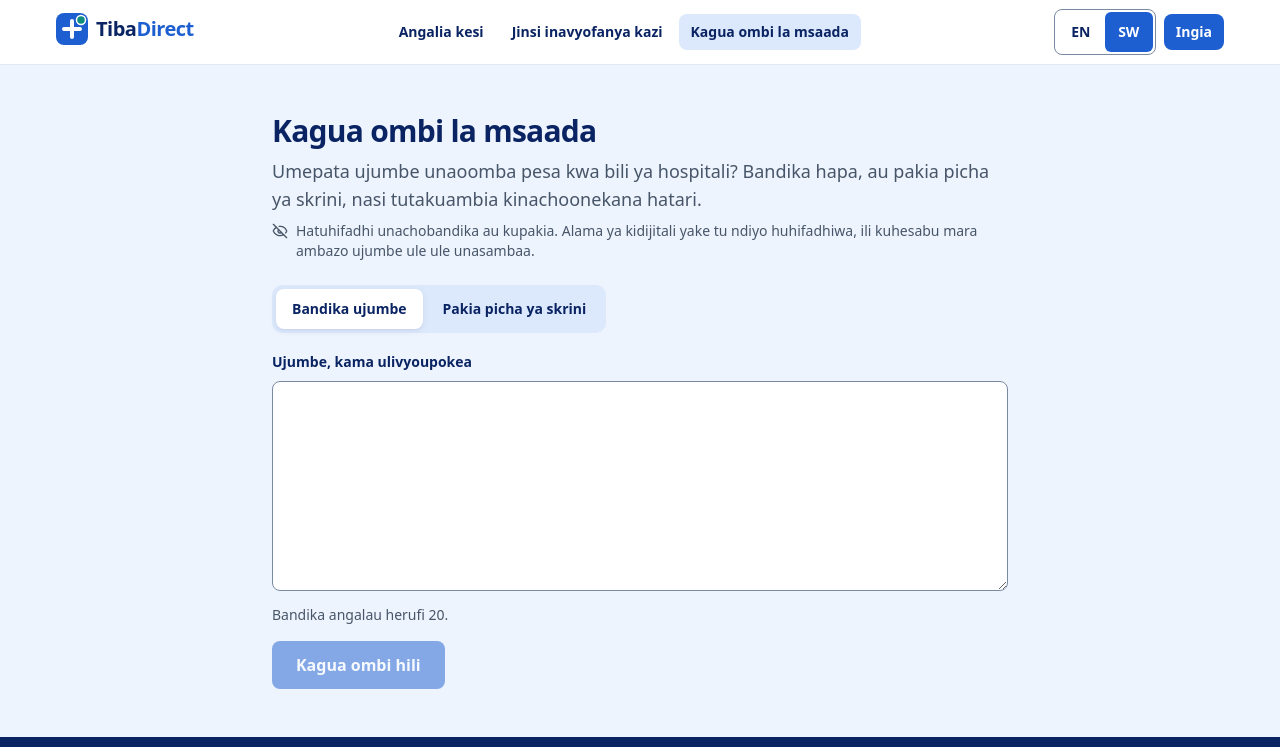
Test: appeal checker › shows the reasons and the tip in Swahili when the language is Swahili
The width and height of the screenshot is (1280, 747).
Step 1. Type "URGENT!! Please send money to 0712 000 000 today, my child is in hospital and we have no time." into the text box labelled "Ujumbe, kama ulivyoupokea" → (640, 486), box [272, 381, 1008, 591]
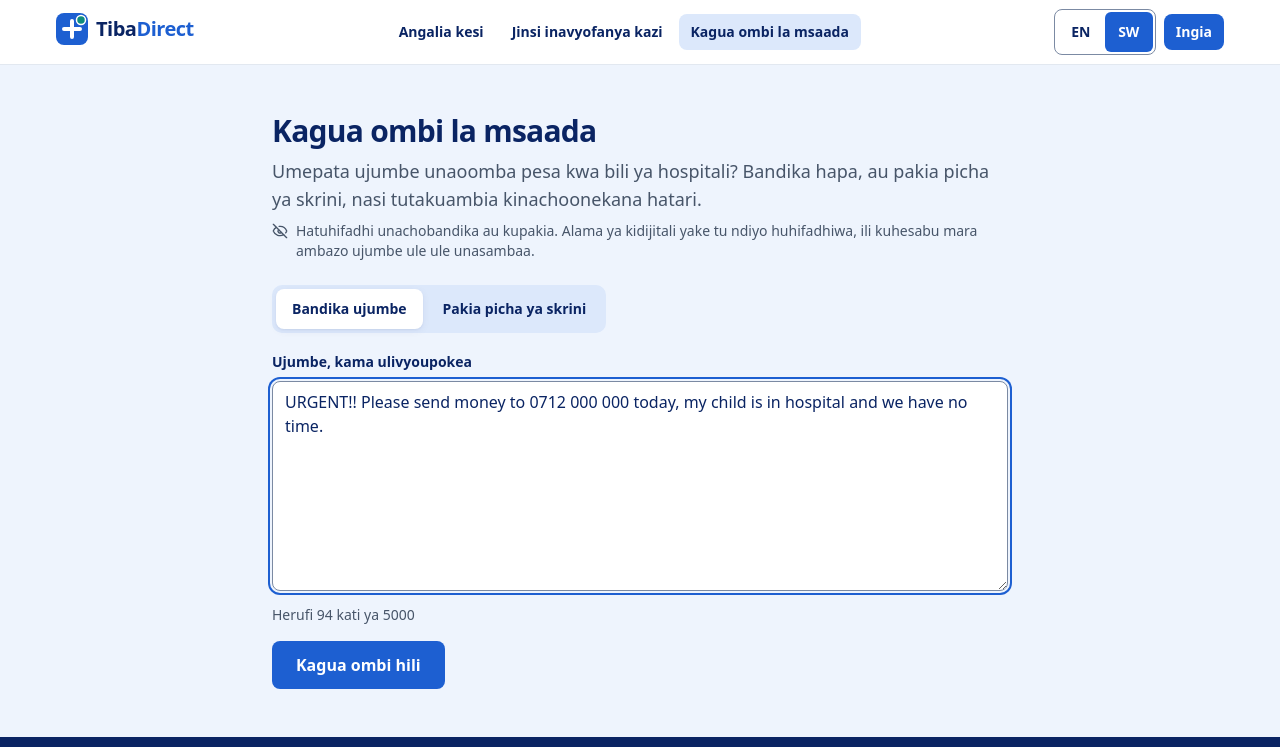
Step 2. Click the button "Kagua ombi hili" → (358, 665), box [272, 641, 445, 689]
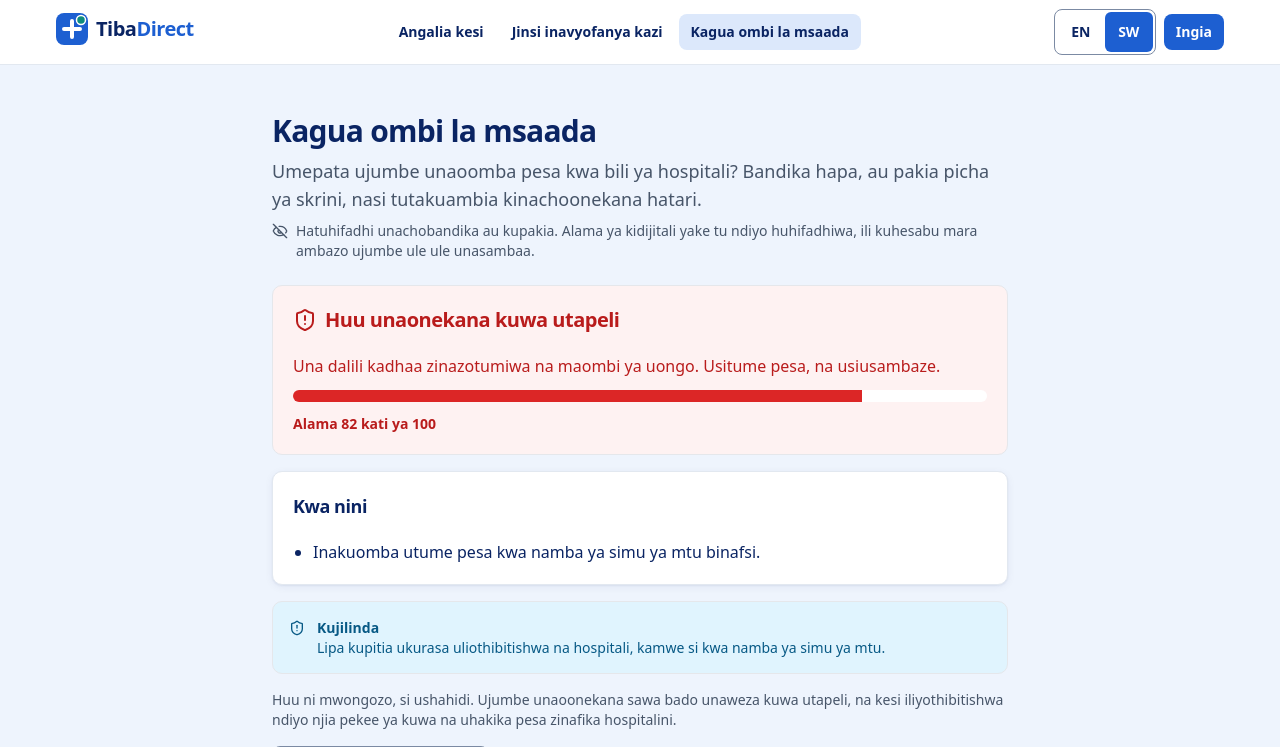
Expected: the list item "Inakuomba utume pesa kwa namba ya simu ya mtu binafsi." is shown, [313, 541, 760, 563]
Expected: the text "Lipa kupitia ukurasa uliothibitishwa" is shown, [317, 638, 885, 657]
